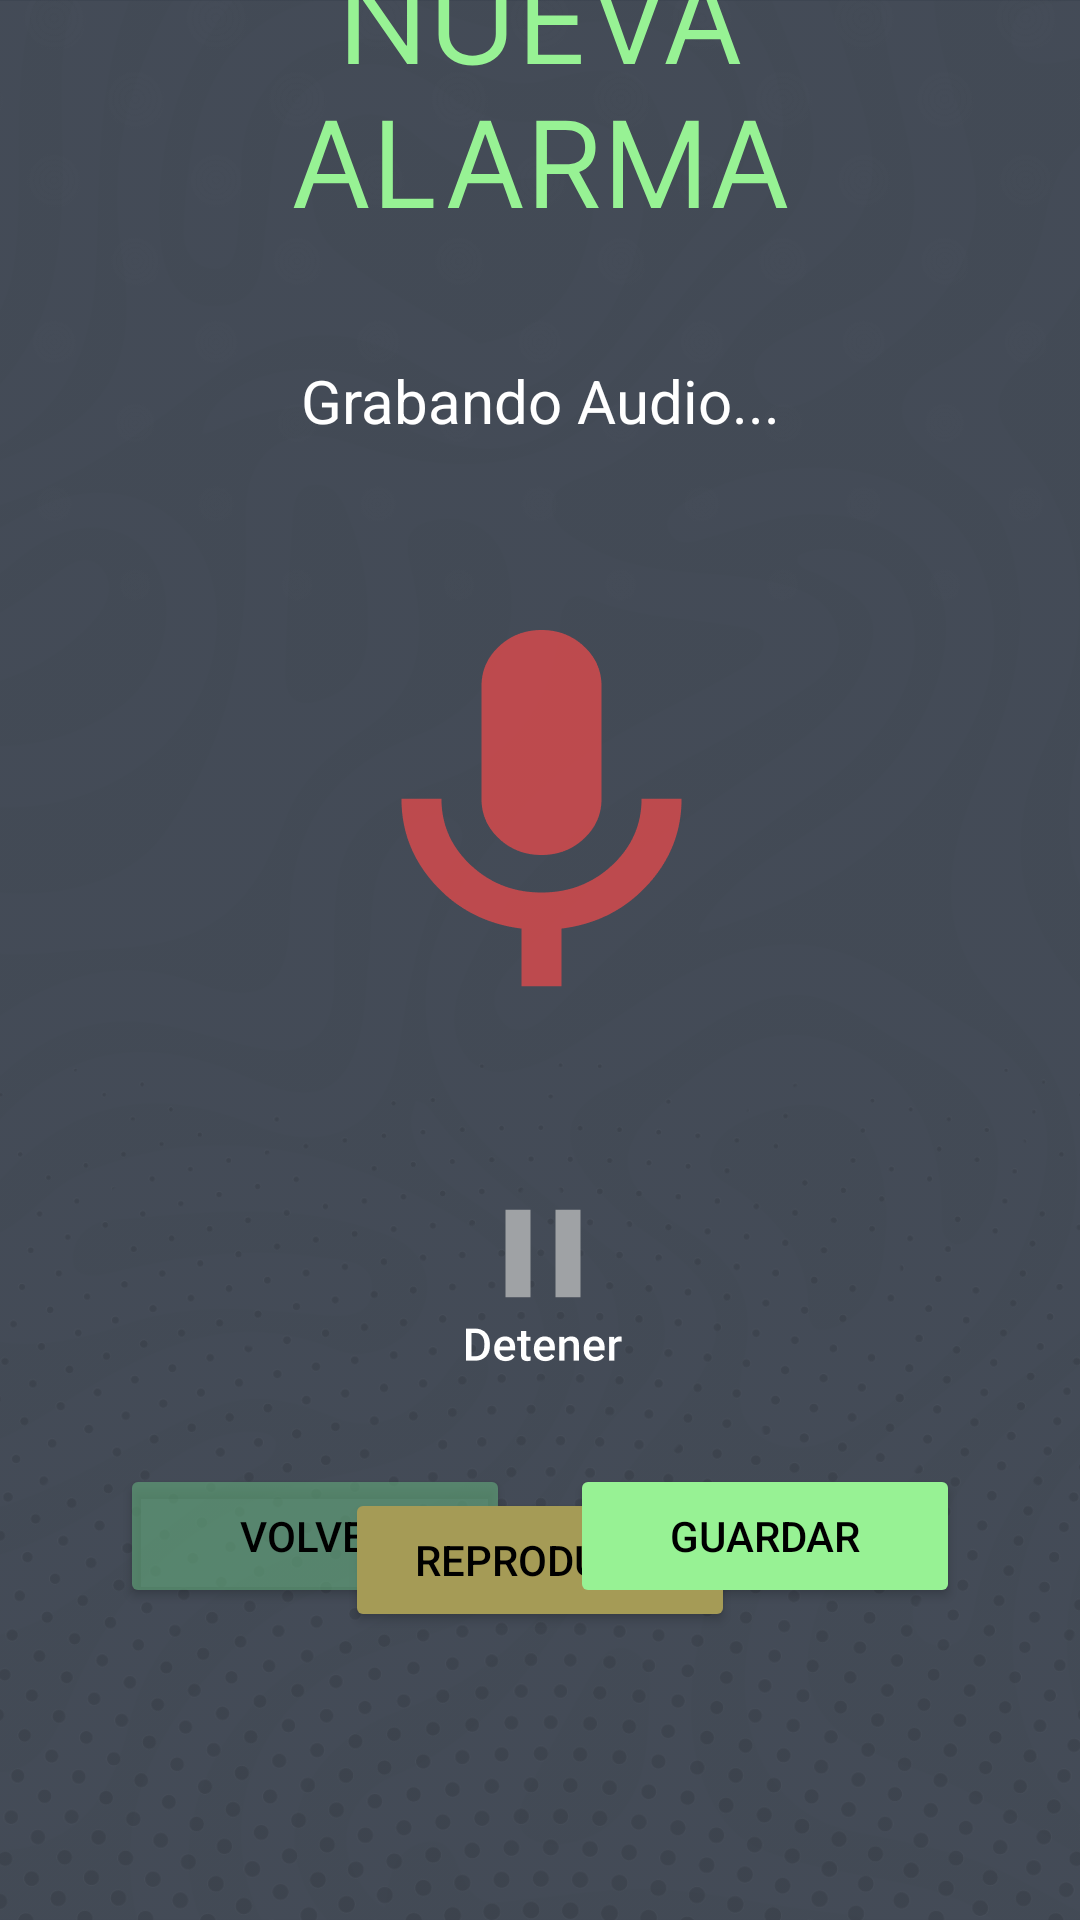

Icon bounding boxes for this 1080*1920 phone screenshot, format region(x1, y1, x2, y2):
Microfono: region(401, 630, 682, 987)
